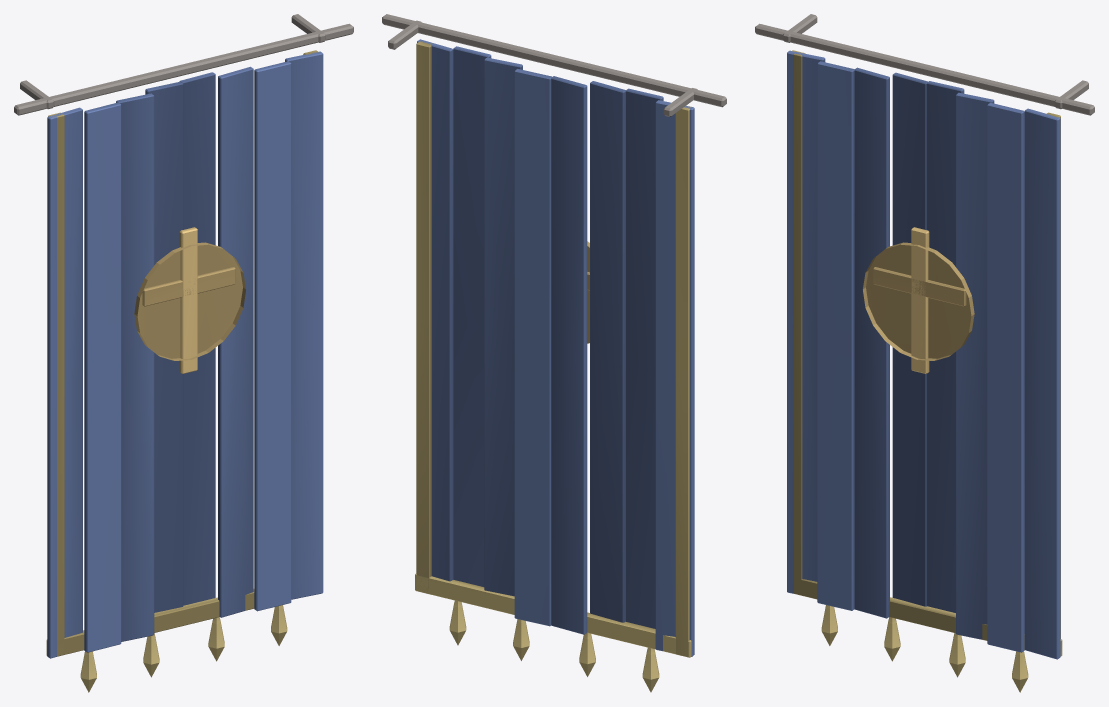
Rendered from dngp_banner.glb.
3 renders of one model, left to right at view 1: azimuth 30°, elevation 25°; view 2: azimuth 150°, elevation 25°; view 3: azimuth 330°, elevation 25°, orthographic.
Visible parts, largest first — view 1: banner_arm; view 2: banner_arm; view 3: banner_arm.
Boxes of the visible parts, left/top/right/bottom form: banner_arm: left=14, top=14, right=353, bottom=692; banner_arm: left=382, top=14, right=726, bottom=692; banner_arm: left=755, top=14, right=1094, bottom=692.
Bounding box in the file's own units: 1.24 × 2.12 × 0.21.
